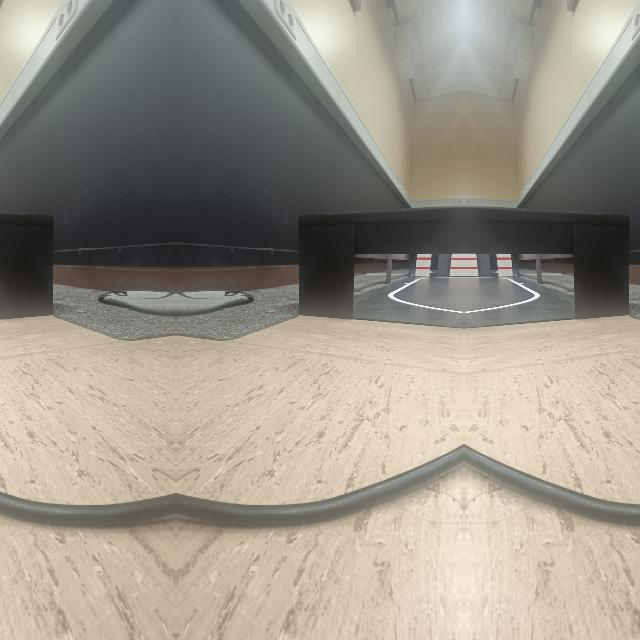obstacle: (176, 440, 464, 532), (294, 208, 463, 318), (463, 208, 632, 318), (463, 439, 640, 532), (0, 439, 173, 532), (0, 208, 55, 318)
